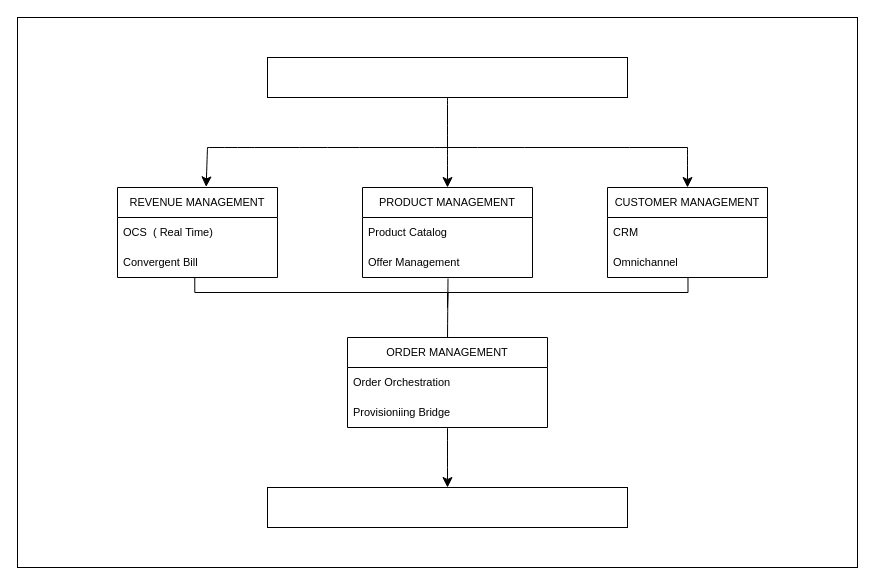
Image size: 875x585. Some labels were removed from this diagram. The shapes that lost their labels are listed below. From the top down, each one's centre as x and y in pixels, then its label:
At point (447, 77): "LANSKAP BSS (BUSINESS)".
At point (447, 507): "LAPISAN OSS (NETWORK)".
